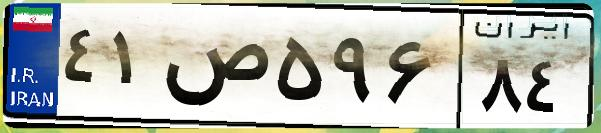1: (110, 28, 158, 98)
4: (57, 26, 110, 100), (525, 38, 570, 115)
5: (270, 28, 330, 110)
6: (385, 28, 445, 110)
8: (475, 38, 525, 113)
9: (330, 28, 385, 110)
ص: (158, 20, 270, 120)
